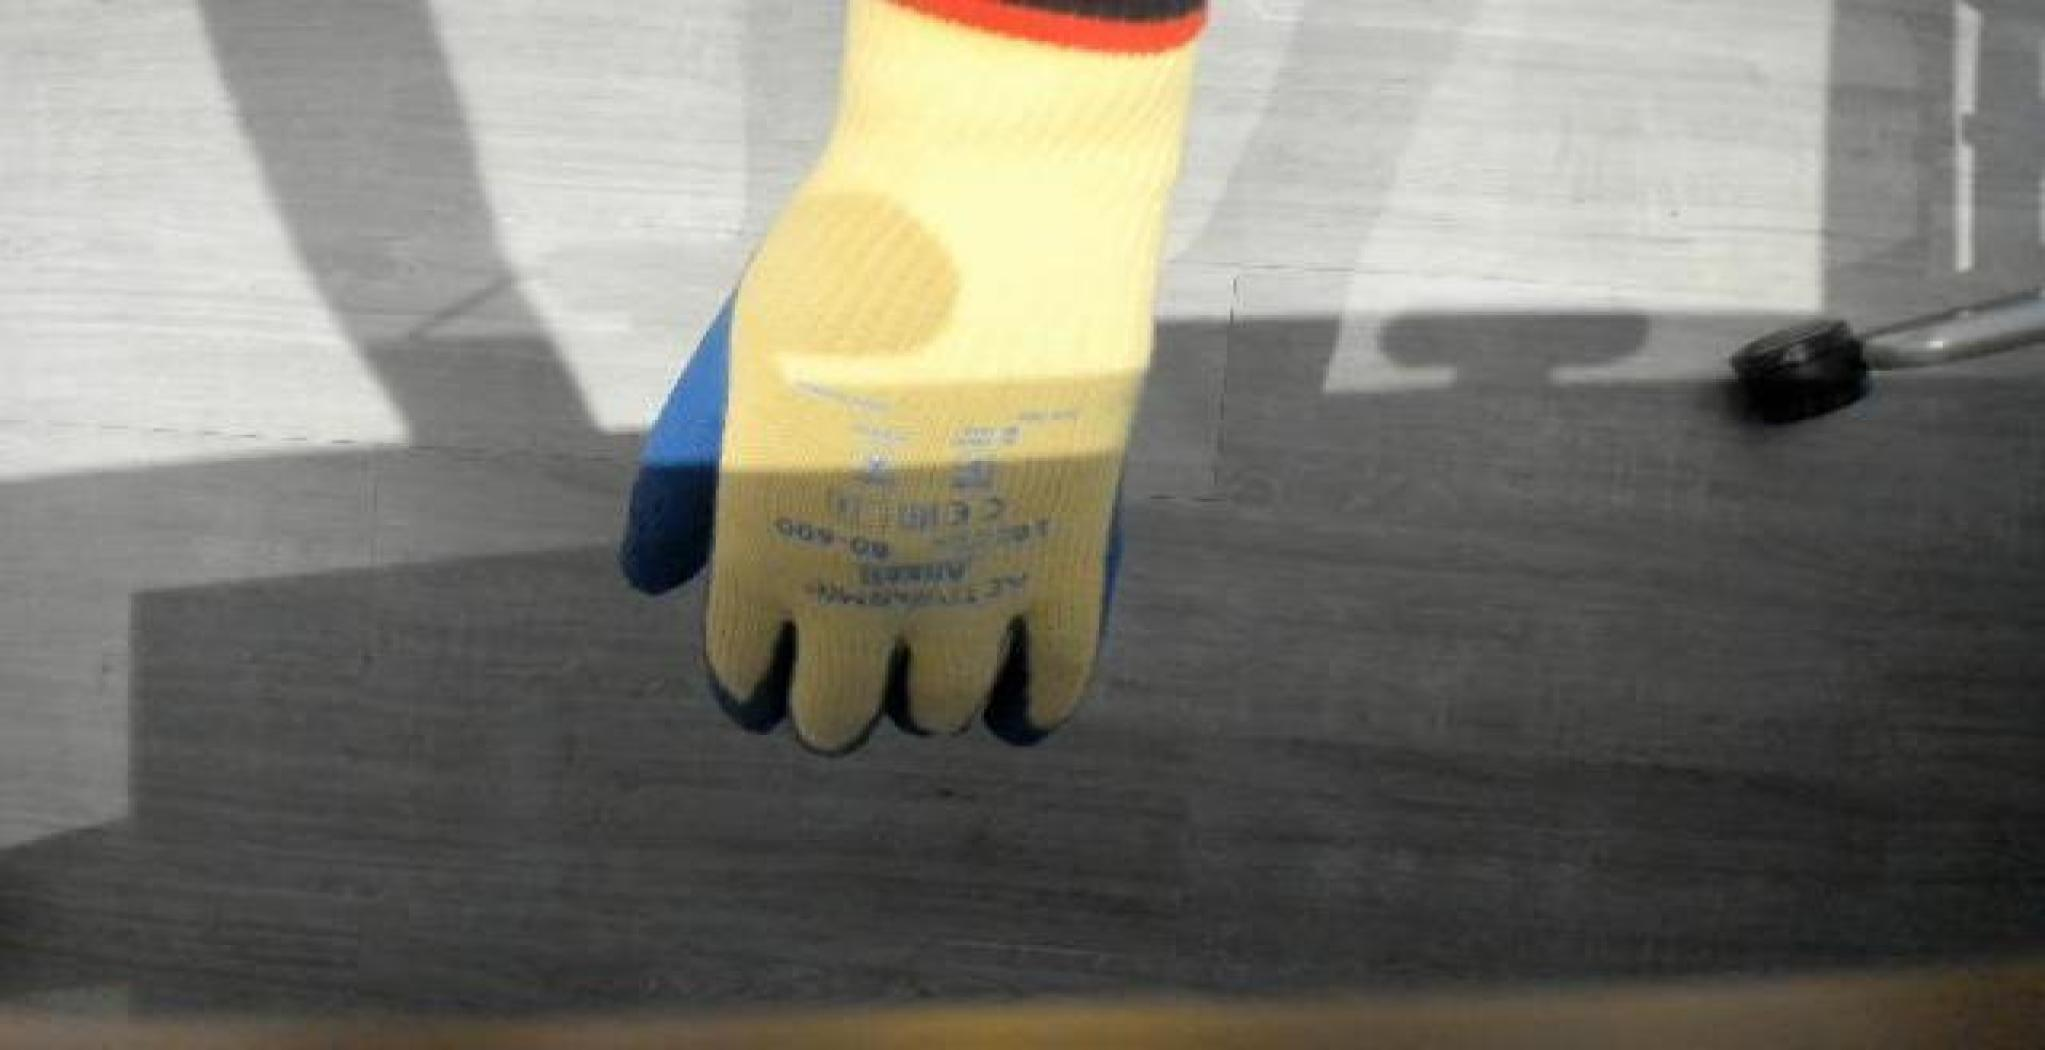gloved: (610, 0, 1210, 756)
